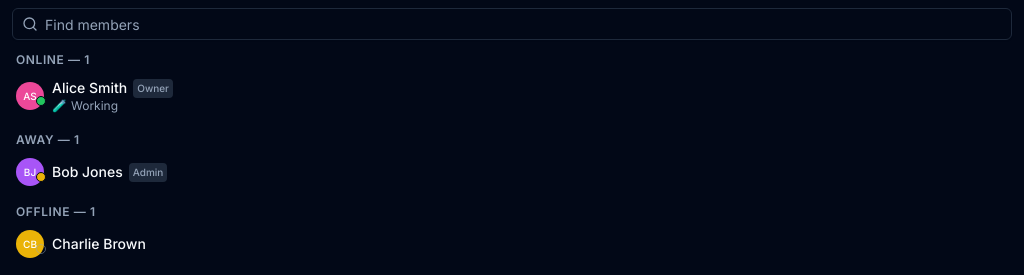
it: MemberList › filters by email too
In the field with placeholder "Find members": (512, 24) [12,8,1012,40], type "charlie@"
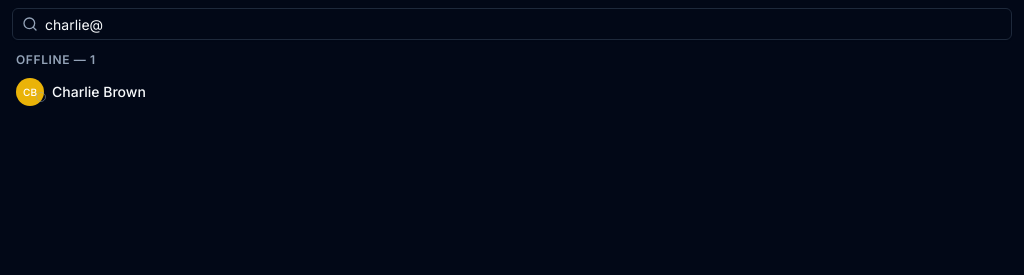
Expected: the text "Charlie Brown" is shown, [52,82,146,102]
Expected: the button "Alice Smith" is gone
